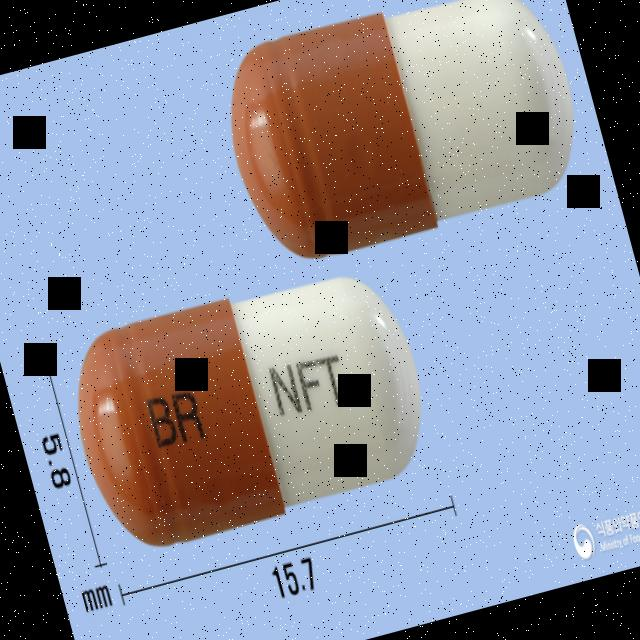Boryung Nitrofurantoin: (53, 249, 448, 566)
